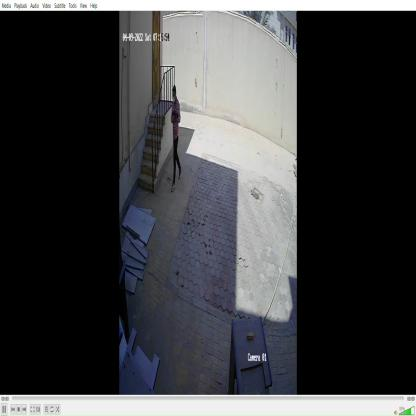handgun: (171, 109, 181, 125)
